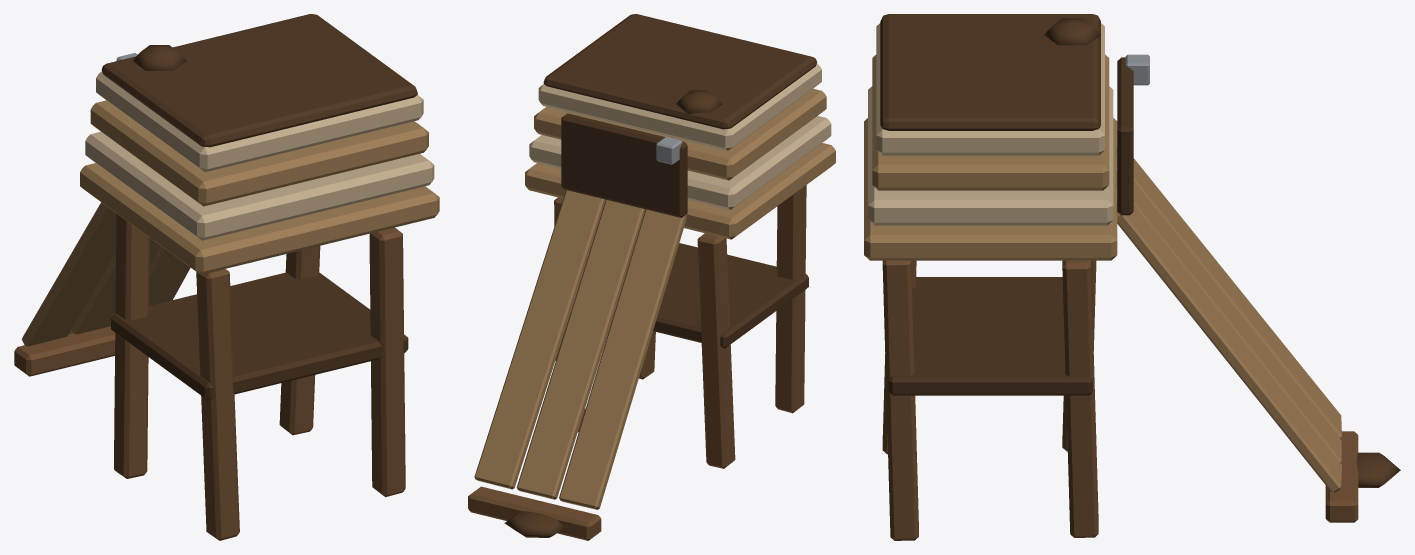
Rendered from slurry_chute.fbx.
The picture shows the model from 3 angles, left to right: view 1: azimuth 30°, elevation 25°; view 2: azimuth 150°, elevation 25°; view 3: azimuth 270°, elevation 25°; orthographic projection. The views are drawn at different scales.
Visible parts, largest first — view 1: Base; view 2: Base, Gate; view 3: Base, Gate.
Part boxes in pixels (x1=…): Base: x1=14, y1=14, x2=439, y2=540; Base: x1=468, y1=14, x2=835, y2=540; Gate: x1=561, y1=113, x2=687, y2=217; Base: x1=864, y1=14, x2=1400, y2=540; Gate: x1=1117, y1=54, x2=1149, y2=215.
Size of the model in its own units: 0.72 by 1.31 by 1.19.
